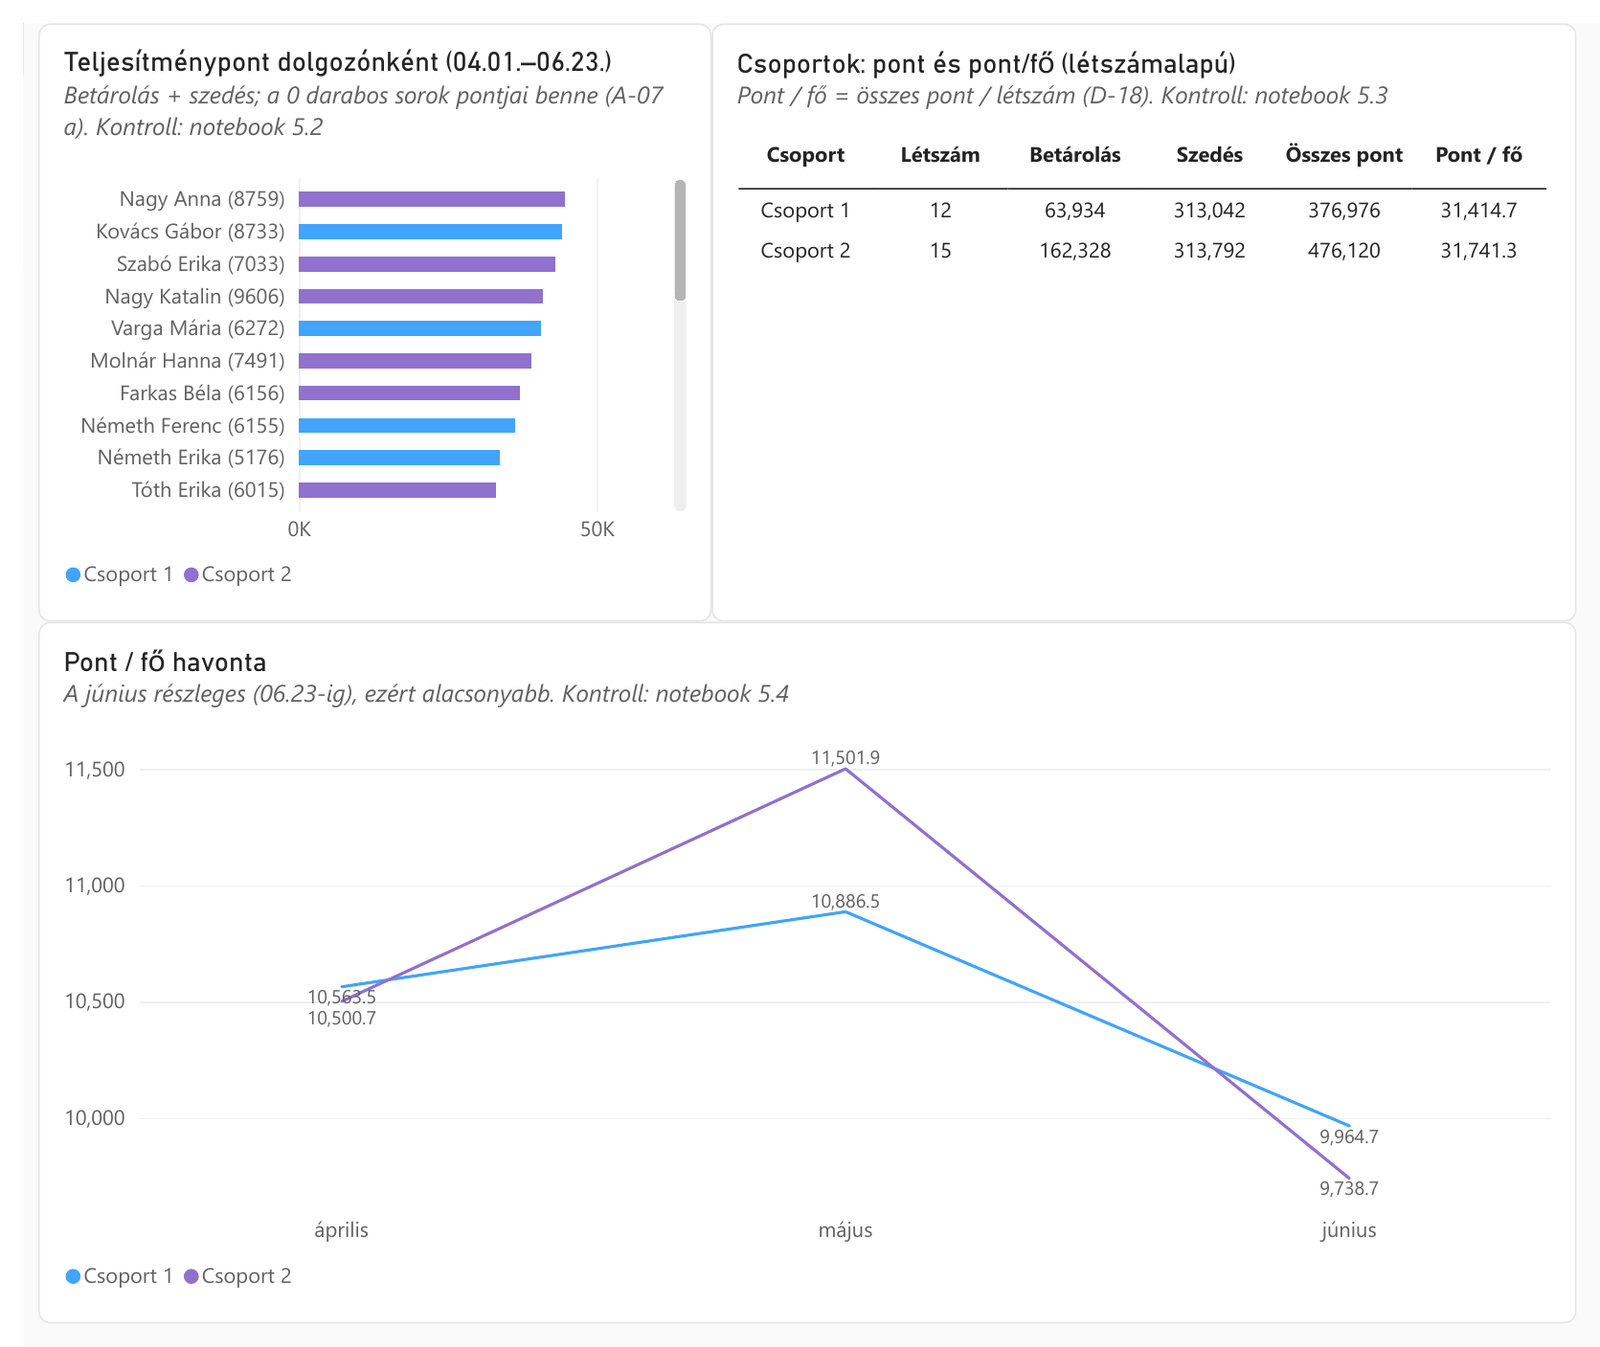

What the dashboard file says about the page in this screenshot:
{"tool":"powerbi","page":{"name":"Teljesítménypont","canvas":[1920,1080],"ordinal":2},"visuals":[{"type":"barChart","title":"Teljesítménypont dolgozónként (04.01.–06.23.)","fields":{"Category":["PontDolgozo.Nev_kod"],"Series":["PontDolgozo.Csoport"],"Y":["Sum(PontDolgozo.Pont_osszes)"]},"box":[10,0,450,400],"z":0},{"type":"tableEx","title":"Csoportok: pont és pont/fő (létszámalapú)","fields":{"Values":["PontCsoport.Csoport","Sum(PontCsoport.Letszam)","Sum(PontCsoport.Pont_betarolas)","Sum(PontCsoport.Pont_szedes)","Sum(PontCsoport.Pont_osszes)","Sum(PontCsoport.Pont_per_fo)"]},"box":[460,0,577.5,400],"z":1000},{"type":"lineChart","title":"Pont / fő havonta","fields":{"Category":["PontHavi.HonapNev"],"Series":["PontHavi.Csoport"],"Y":["Sum(PontHavi.Pont_per_fo)"]},"box":[10,400,1027.5,468.8],"z":2000}]}

Visuals, with their boxes on the page's 1920x1080 design canvas (x1, y1, x2, y2). These are canvas units, not pixel positions in the 1600x1347 screenshot, which may show the page scaled, cropped or inside an application window:
"Teljesítménypont dolgozónként (04.01.–06.23.)" barChart: rect(10, 0, 460, 400)
"Csoportok: pont és pont/fő (létszámalapú)" tableEx: rect(460, 0, 1038, 400)
"Pont / fő havonta" lineChart: rect(10, 400, 1038, 869)
